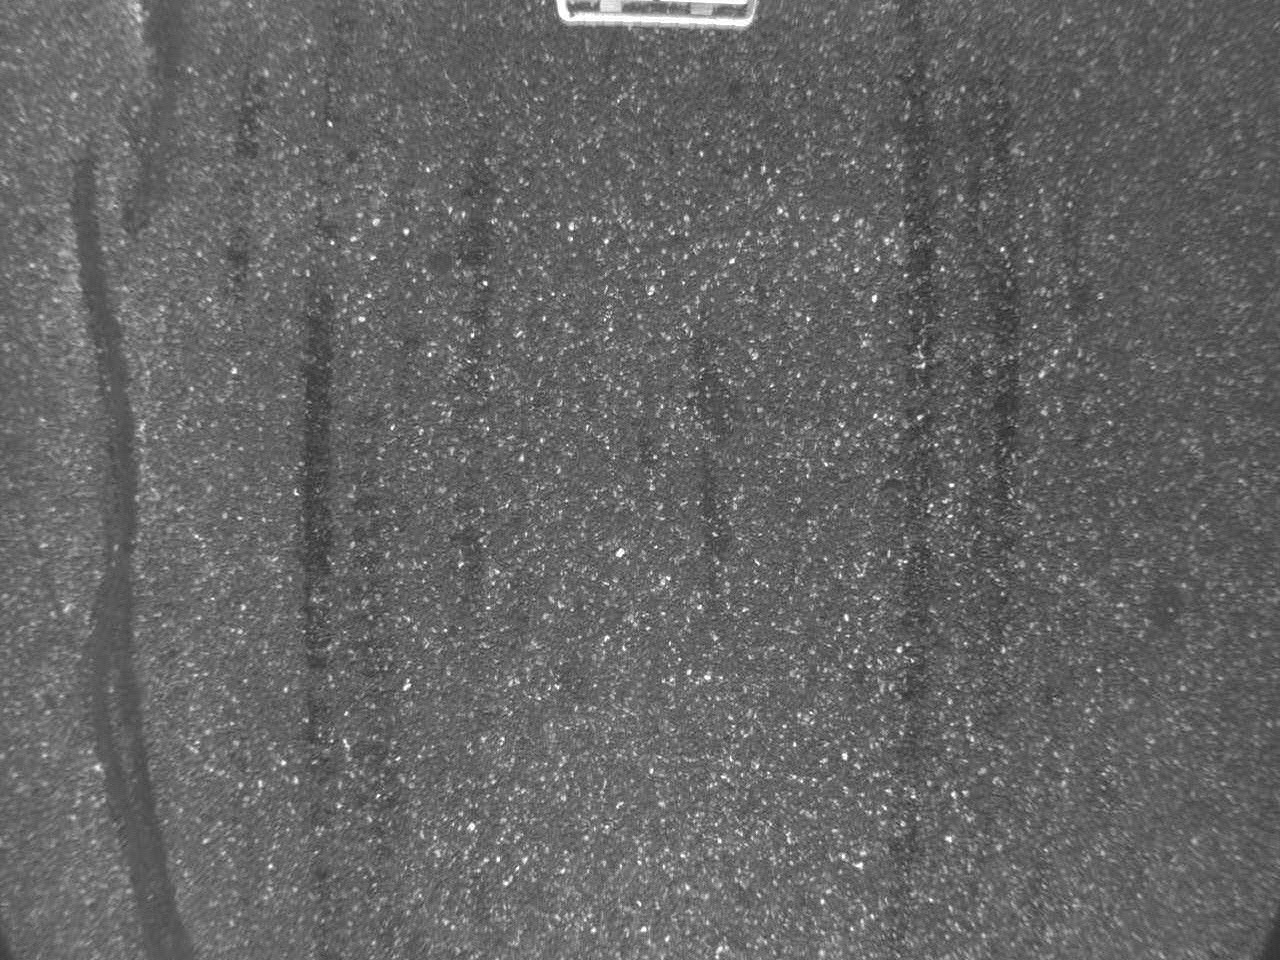sealed: (66, 142, 198, 950)
